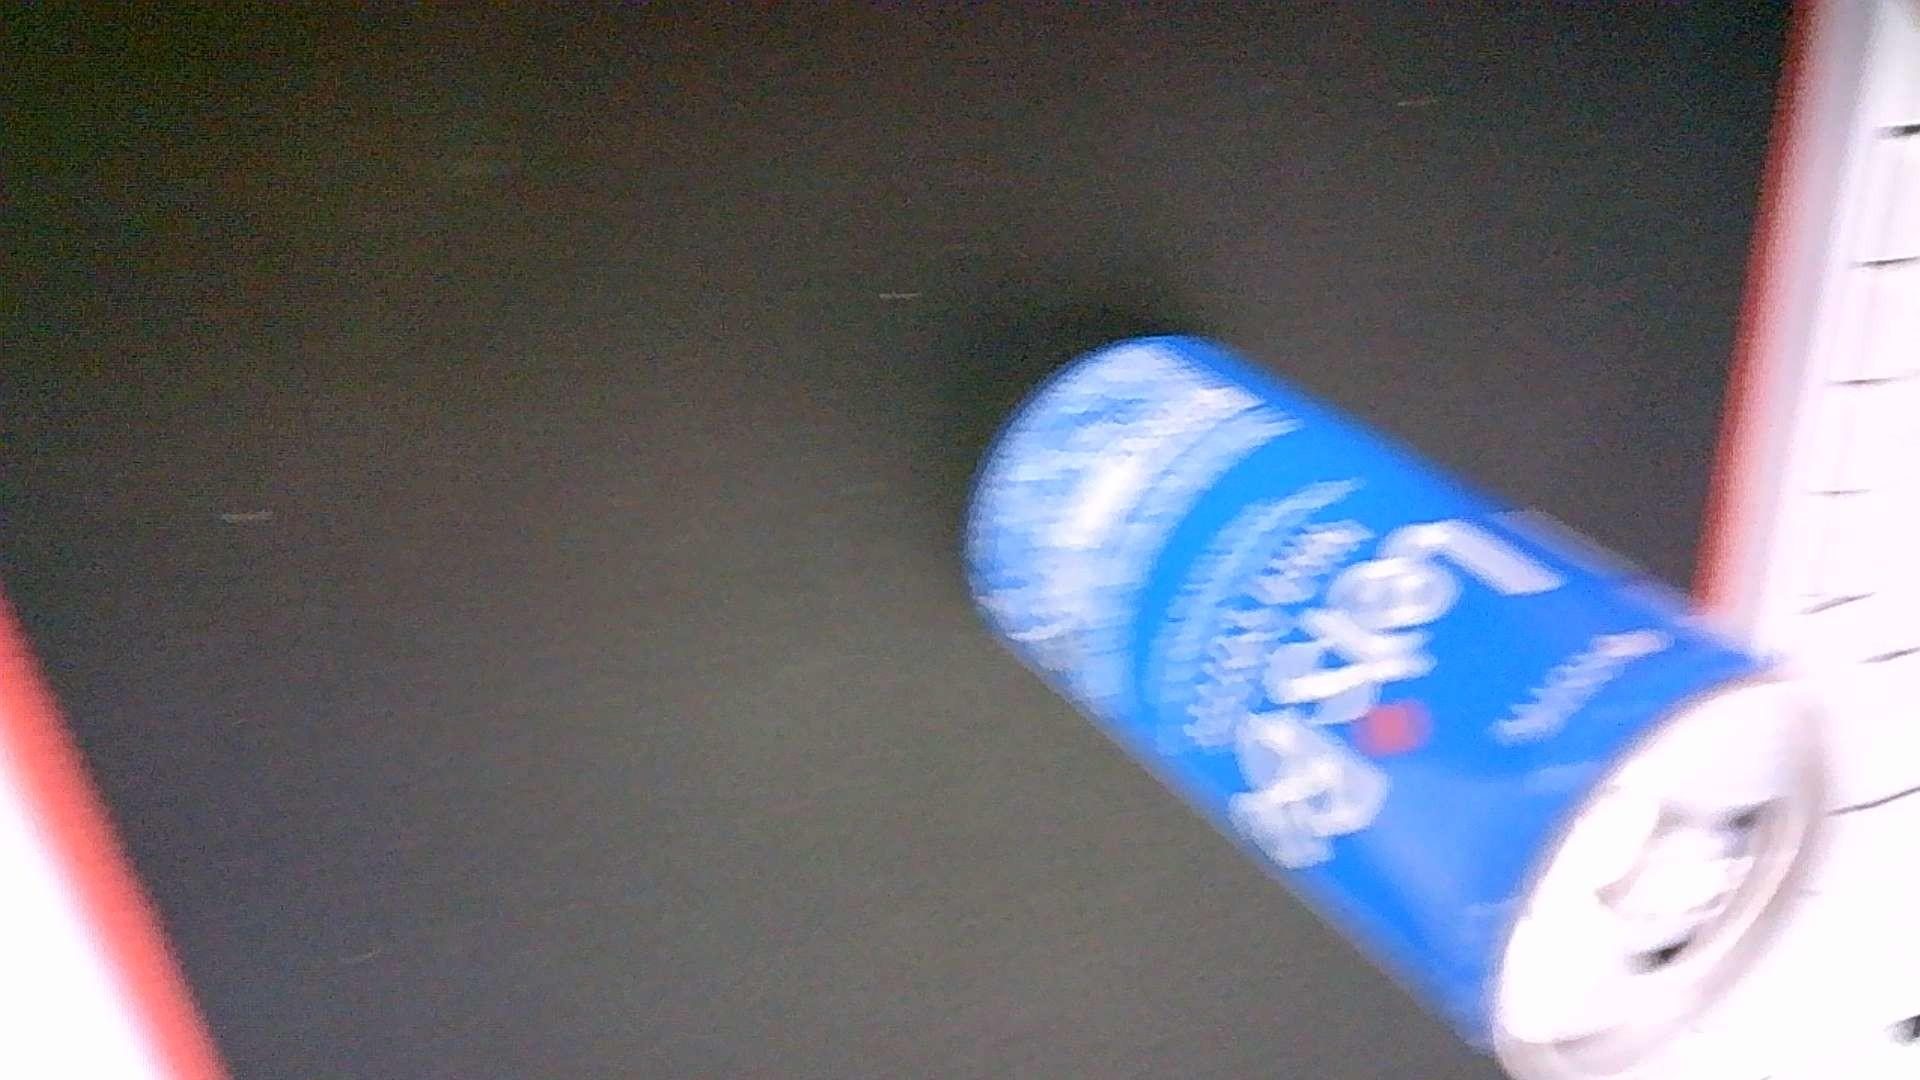letsbe: (959, 328, 1836, 1076)
